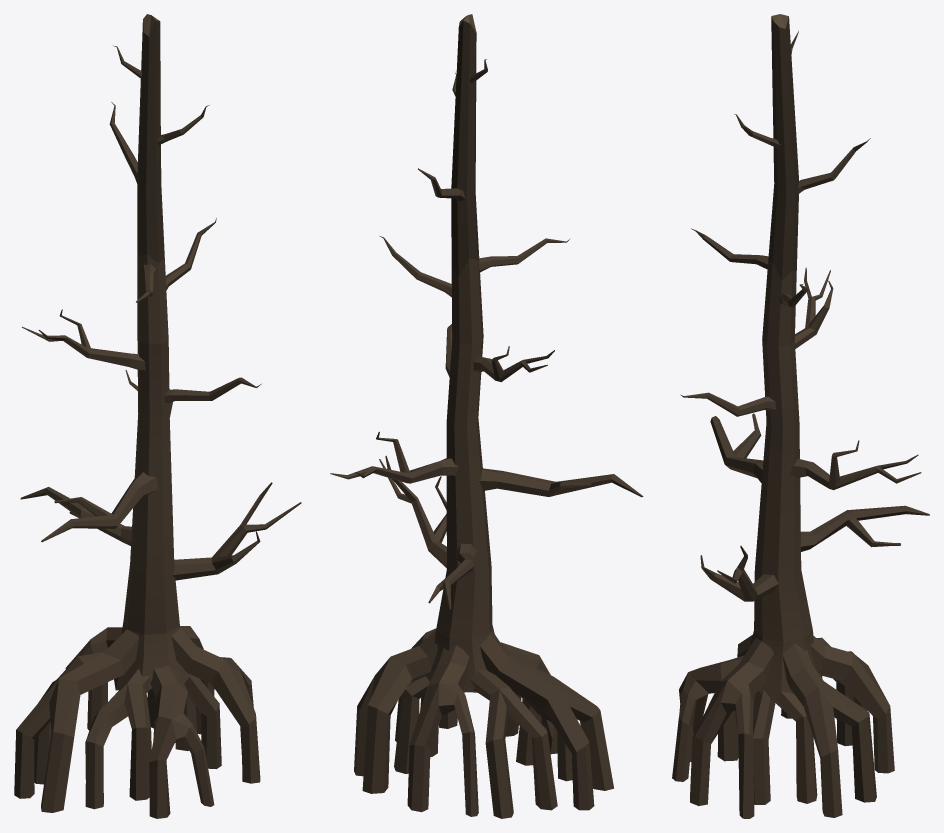
Rendered from SM_Tree_Swamp_03_parts.fbx.
3 views of the same model, side by side, from view 1: azimuth 30°, elevation 25°; view 2: azimuth 150°, elevation 25°; view 3: azimuth 270°, elevation 25° (orthographic).
Parts seen in each view (by area): view 1: SM_Tree_Swamp_03_partA, SM_Tree_Swamp_03_partB, SM_Tree_Swamp_03_partC; view 2: SM_Tree_Swamp_03_partA, SM_Tree_Swamp_03_partB, SM_Tree_Swamp_03_partC; view 3: SM_Tree_Swamp_03_partA, SM_Tree_Swamp_03_partB, SM_Tree_Swamp_03_partC.
Part boxes in pixels (x1=…): SM_Tree_Swamp_03_partA: x1=14, y1=370, x2=301, y2=818; SM_Tree_Swamp_03_partB: x1=22, y1=218, x2=261, y2=458; SM_Tree_Swamp_03_partC: x1=109, y1=14, x2=209, y2=262; SM_Tree_Swamp_03_partA: x1=330, y1=427, x2=643, y2=818; SM_Tree_Swamp_03_partB: x1=379, y1=236, x2=570, y2=461; SM_Tree_Swamp_03_partC: x1=418, y1=14, x2=487, y2=277; SM_Tree_Swamp_03_partA: x1=672, y1=413, x2=929, y2=818; SM_Tree_Swamp_03_partB: x1=680, y1=228, x2=833, y2=456; SM_Tree_Swamp_03_partC: x1=734, y1=14, x2=870, y2=280.
Size of the model in its own units: 269 by 743 by 227.
